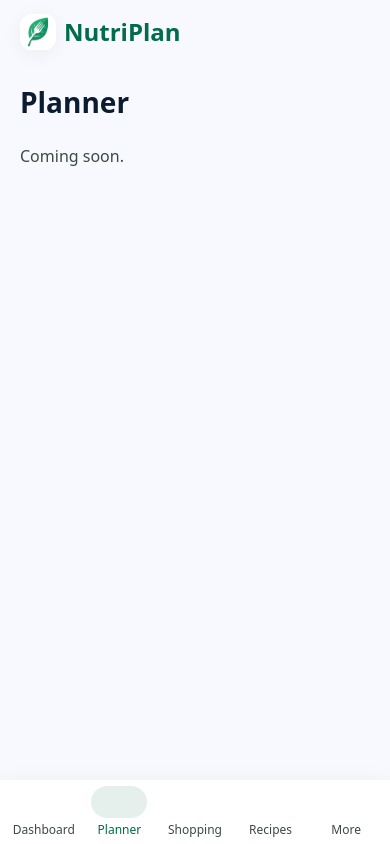
Test: AppShell › switching the language in the "More" menu translates the whole app
Expected: the heading "Planner" is shown, [20, 84, 129, 120]
What coordinates should you click on to do the following:
click the button "More"
I would click on:
 (346, 812)
Its box is [310, 780, 382, 843].
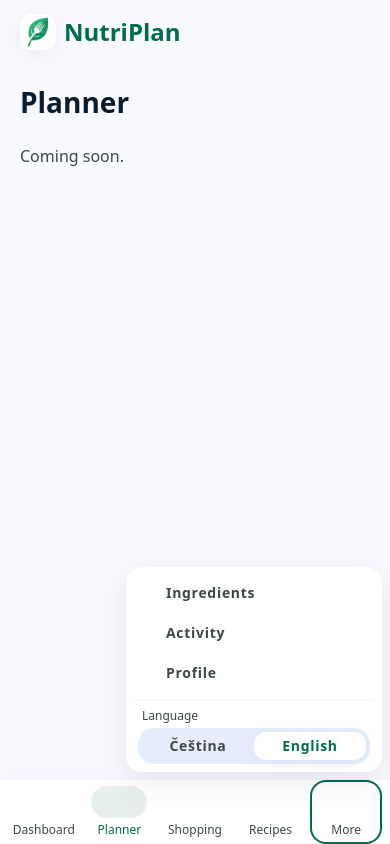
What coordinates should you click on to do the following:
click the radio button labelled "Čeština"
I would click on:
 (198, 746)
Its box is [170, 736, 227, 755].
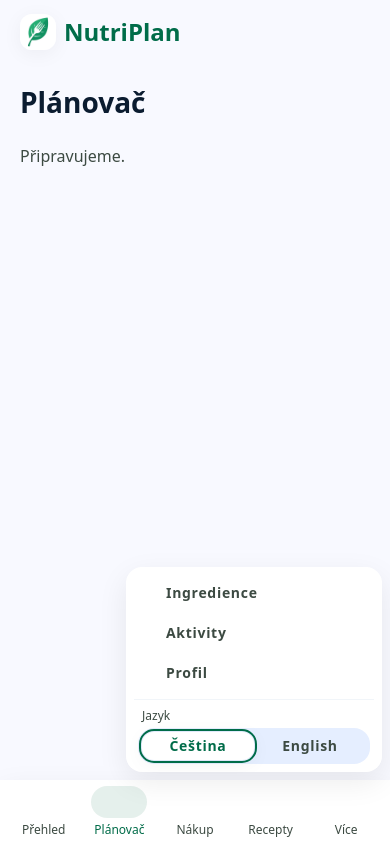
Result: the heading "Plánovač" is shown at [20, 84, 146, 120]
Result: the link "Nákup" is shown at [176, 821, 214, 838]
